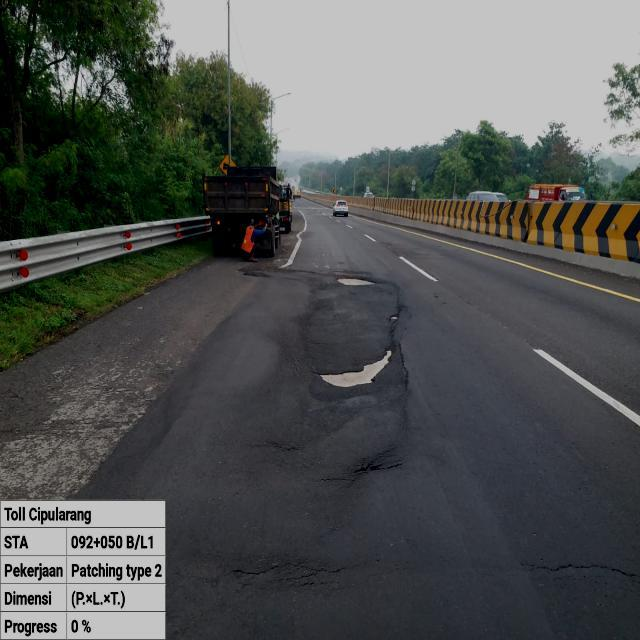Buraco: (309, 346, 397, 391), (334, 274, 381, 287), (387, 313, 402, 322)
